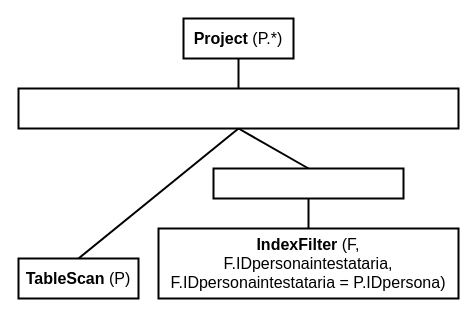
The diagram is 476 pixels wide and 316 high, and some of its shapes have lost their labels. Each missing label, with the box of its shape:
Filter (F.Importo > 100): (212, 167, 404, 199)
IndexNestedLoop (F.IDpersonaintestataria = P.IDpersona): (17, 87, 459, 129)
